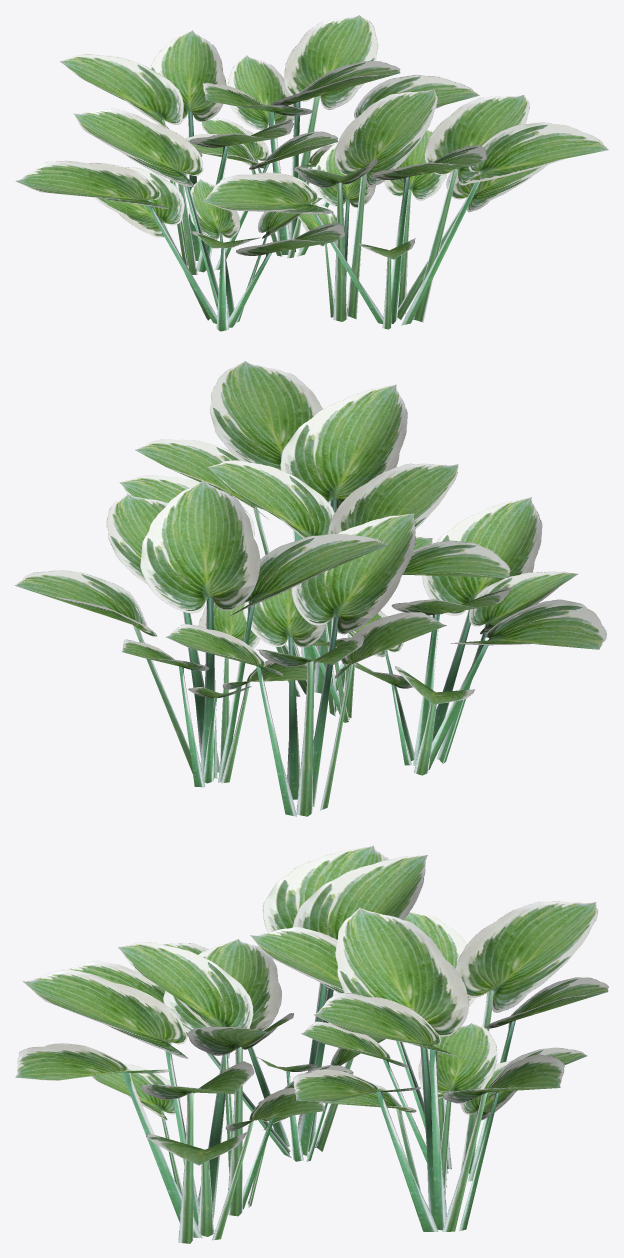
The model's file is plant_small_wg_05R.fbx.
3 views of the same model, one above another, from view 1: azimuth 30°, elevation 25°; view 2: azimuth 150°, elevation 25°; view 3: azimuth 270°, elevation 25° (orthographic). The views are drawn at different scales.
Parts seen in each view (by area): view 1: plant_small_wg_05R; view 2: plant_small_wg_05R; view 3: plant_small_wg_05R.
Part boxes in pixels (bbox=[...]): plant_small_wg_05R: bbox=[15, 15, 608, 331]; plant_small_wg_05R: bbox=[15, 361, 606, 816]; plant_small_wg_05R: bbox=[15, 845, 608, 1243].
Bounding box in the file's own units: 101 × 41.62 × 88.3.
